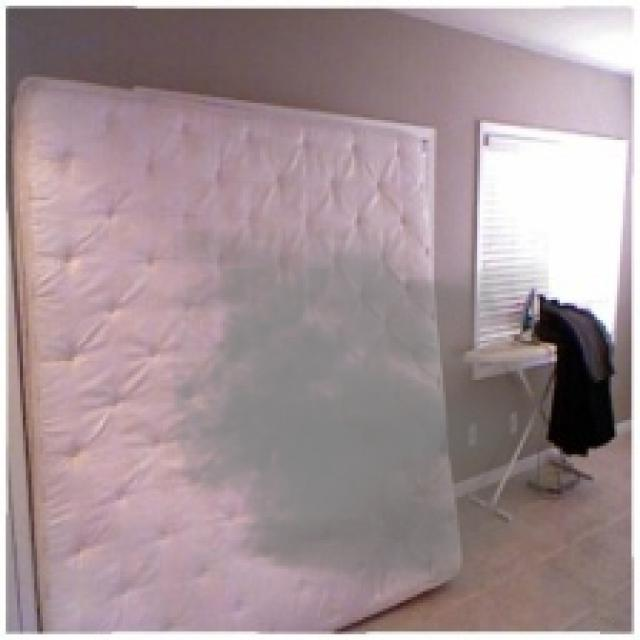smoke: (160, 229, 549, 594)
